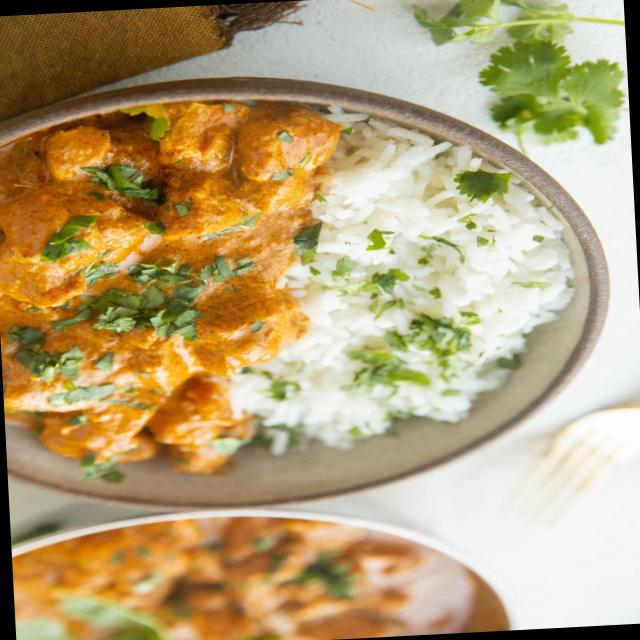chicken: (0, 96, 343, 467), (25, 532, 440, 640)
rice: (266, 140, 566, 450)
